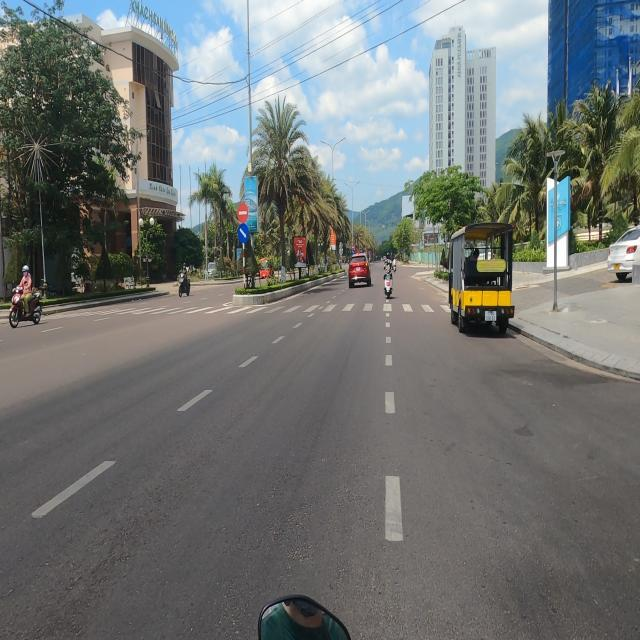walk-crossing: (275, 294, 464, 318)
